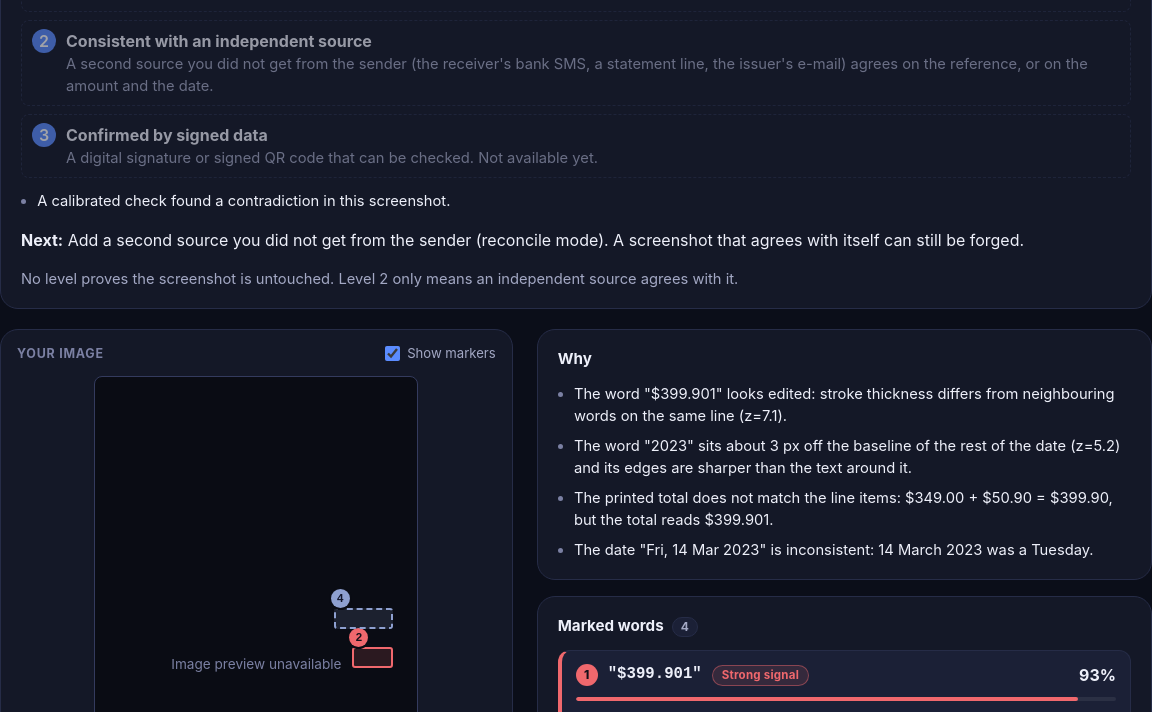
Scenario: AnalysisResults › can hide the markers
(page scrolled)
Click the checkbox labelled "Show markers": {"x": 393, "y": 354} [385,346,400,361]
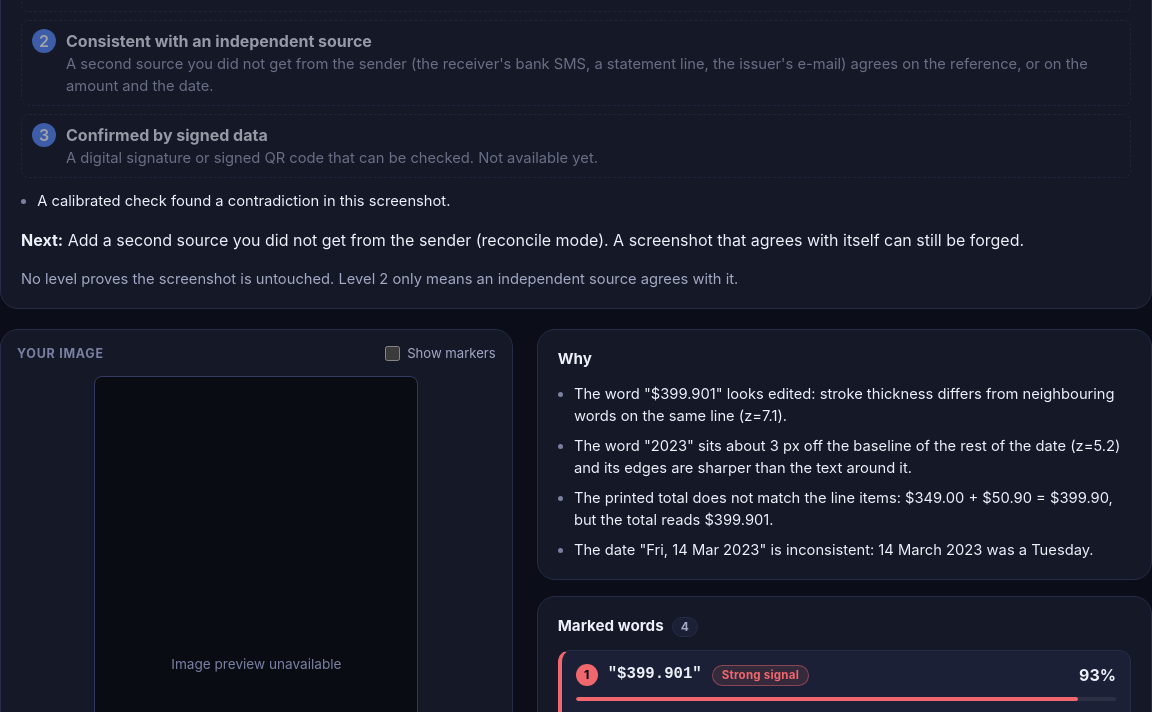
Now no buttons with test id "region-box" are shown
